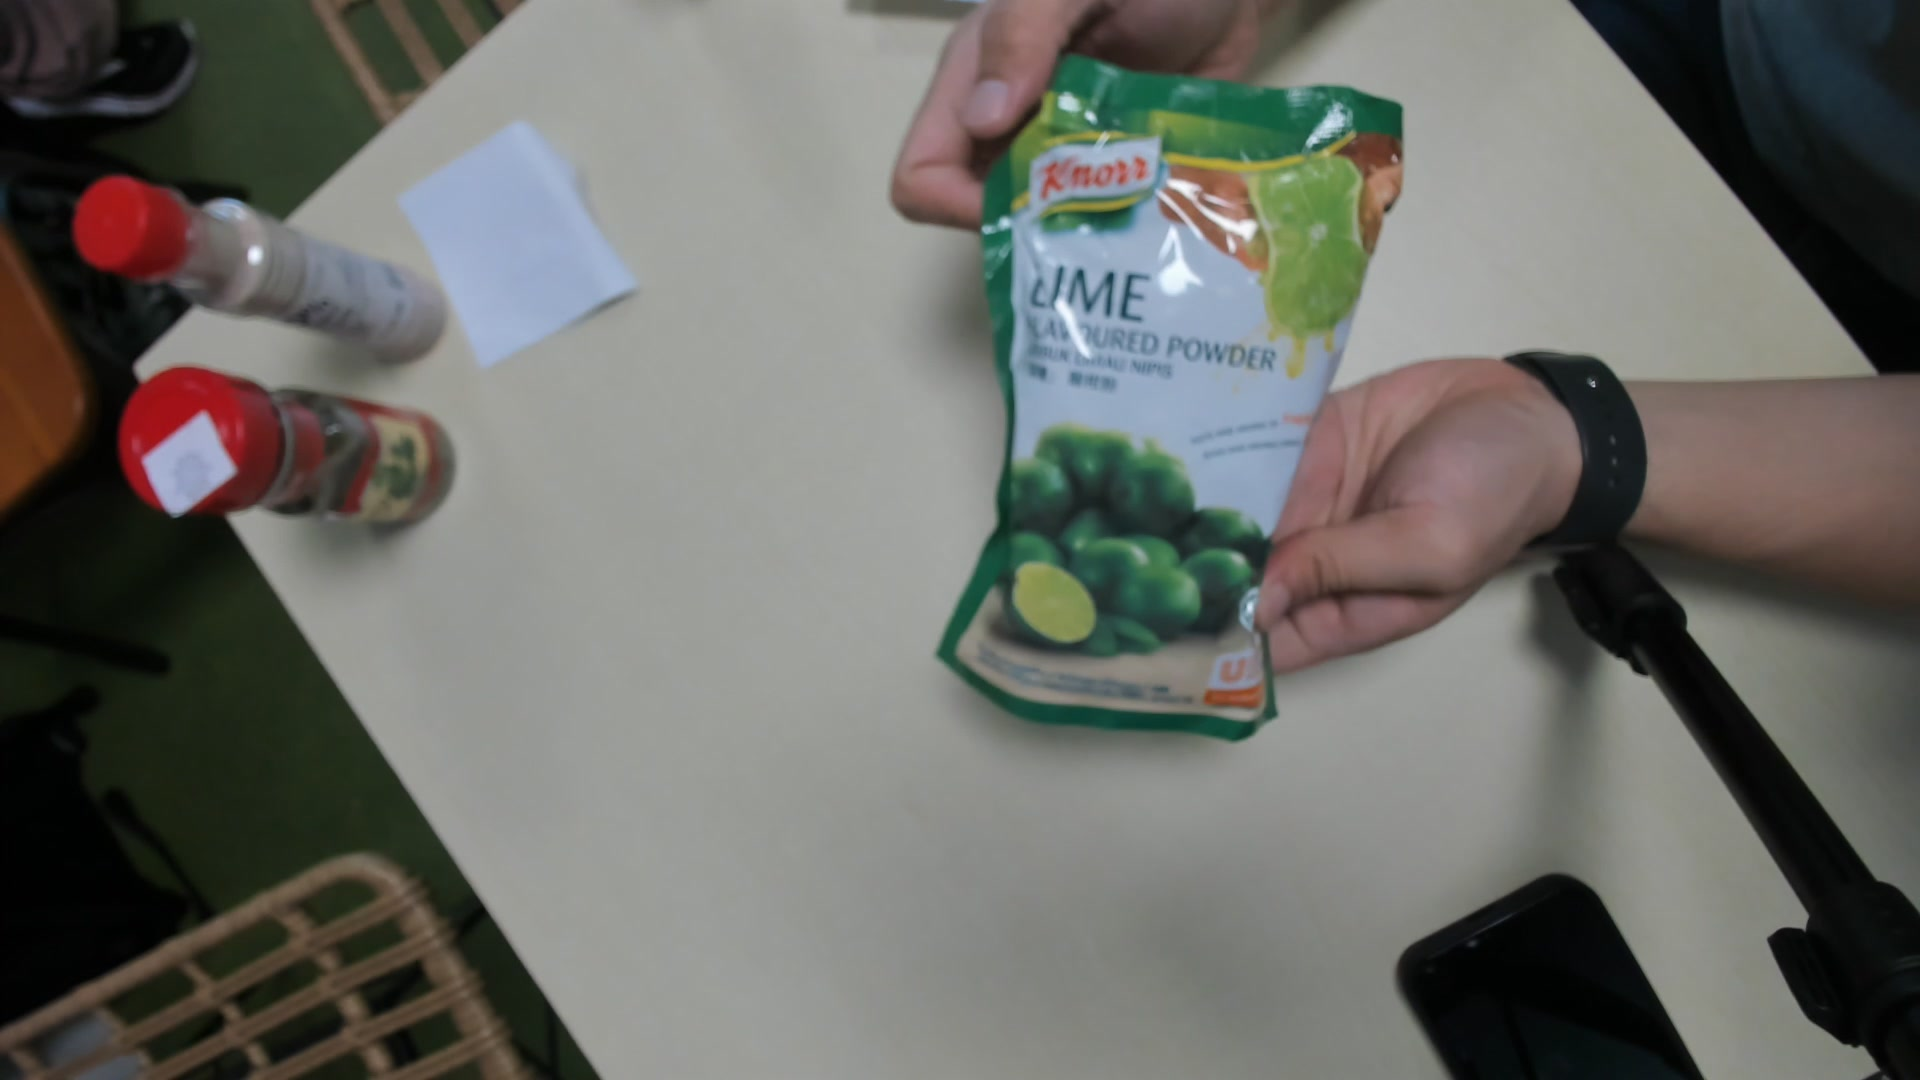HerbsSpicesPepper_400-499g_Halal_NonHealthy: (967, 51, 1383, 744)
